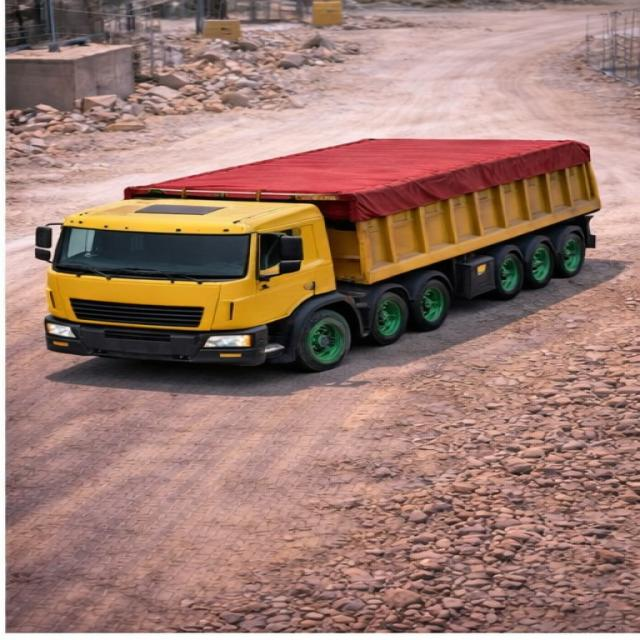Box: (121, 136, 575, 195)
Truck: (33, 106, 616, 374)
